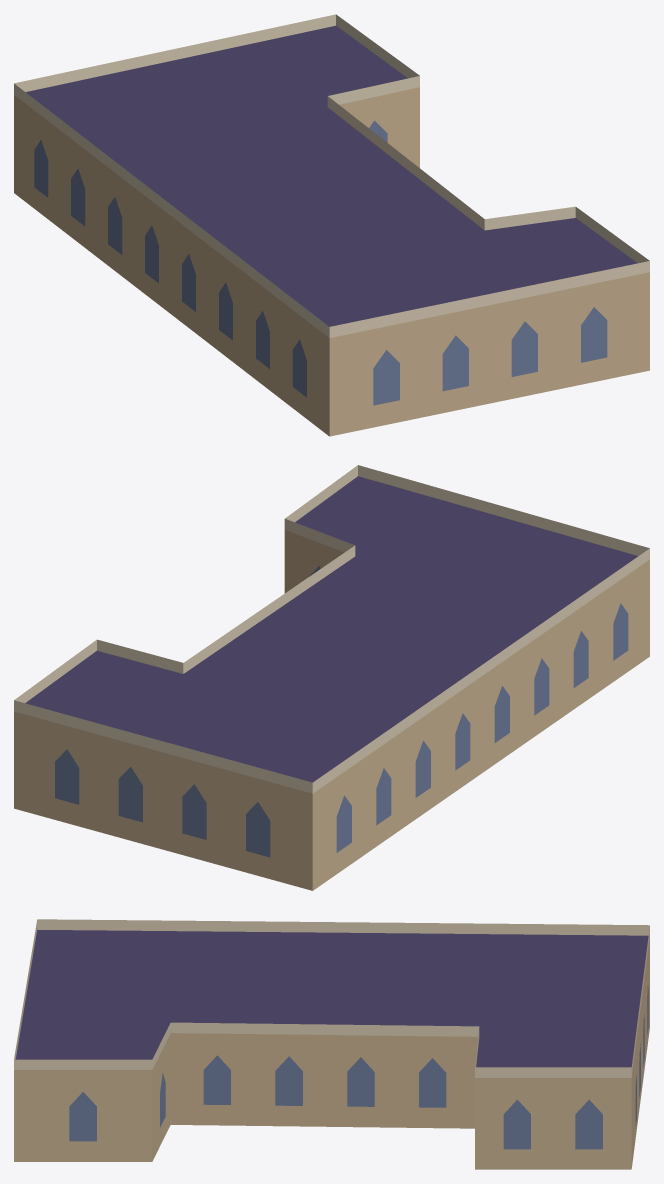
The model's file is b-008-henderson-house-day.glb.
The picture shows the model from 3 angles, top to bottom: view 1: azimuth 30°, elevation 25°; view 2: azimuth 150°, elevation 25°; view 3: azimuth 270°, elevation 25°; orthographic projection. The views are drawn at different scales.
Parts seen in each view (by area): view 1: campus/b-008-henderson-house-day-0; view 2: campus/b-008-henderson-house-day-0; view 3: campus/b-008-henderson-house-day-0.
Boxes of the visible parts, x1,y1,x2,y2 form: campus/b-008-henderson-house-day-0: (14,14,649,436); campus/b-008-henderson-house-day-0: (14,465,649,890); campus/b-008-henderson-house-day-0: (14,919,649,1169).
Bounding box in the file's own units: 16.67 × 5.35 × 30.13.
